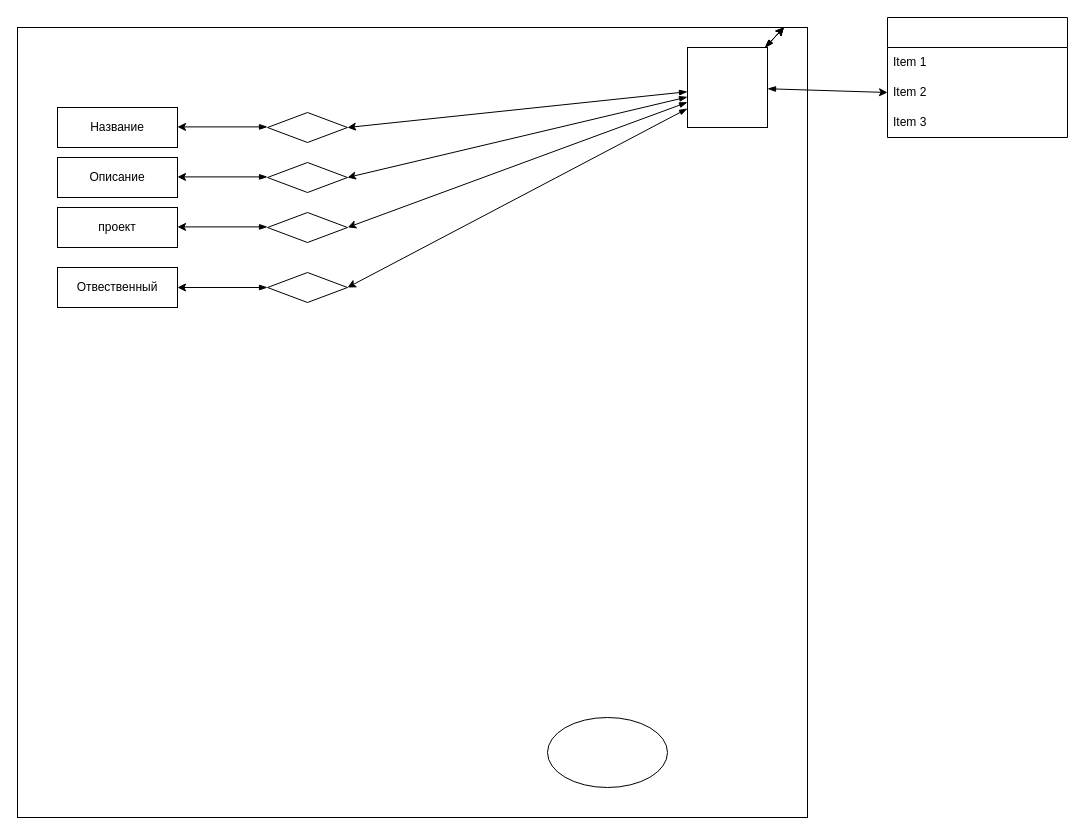
The diagram is 1085 pixels wide and 835 high, and some of its shapes have lost their labels. Here are the shapes that lost their labels. From the top down, the box of each, then its label:
(886, 16, 1068, 138): store
(546, 716, 668, 788): Сохранить
